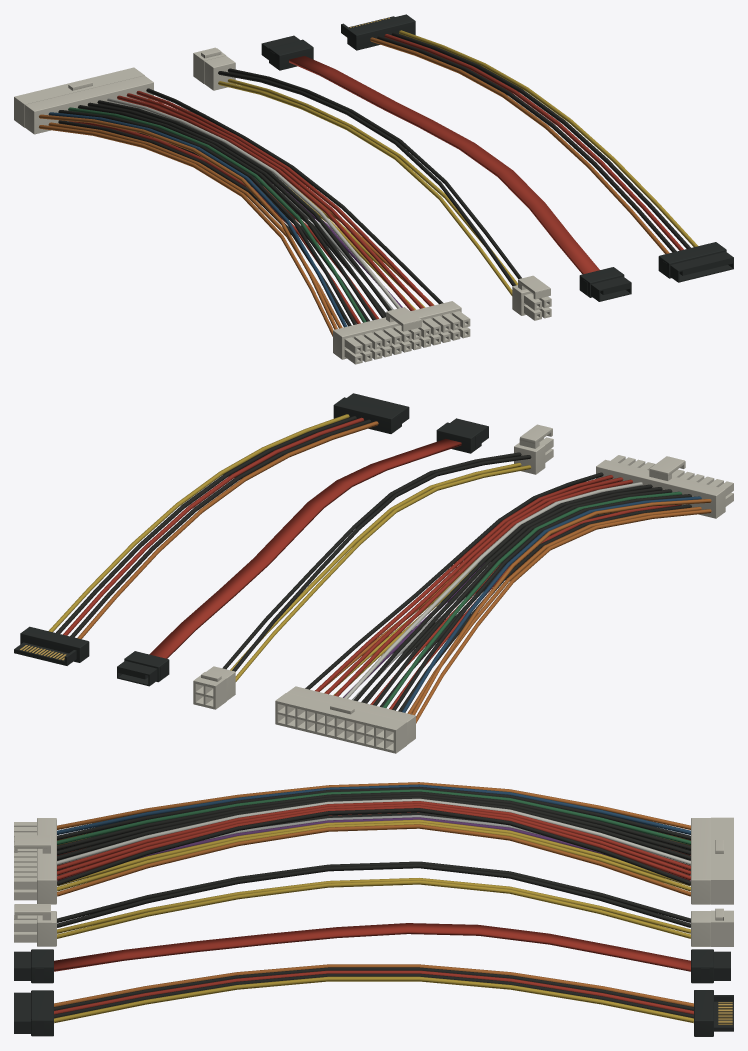
File: PC_InternalCables_LOD0.fbx
The picture shows the model from 3 angles, top to bottom: view 1: azimuth 30°, elevation 25°; view 2: azimuth 150°, elevation 25°; view 3: azimuth 270°, elevation 25°; orthographic projection. The views are drawn at different scales.
Visible parts, largest first — view 1: ATX24_LOD0, SATA_Power_LOD0, CPU4_LOD0, SATA_Data_LOD0; view 2: ATX24_LOD0, SATA_Power_LOD0, CPU4_LOD0, SATA_Data_LOD0; view 3: ATX24_LOD0, SATA_Power_LOD0, CPU4_LOD0, SATA_Data_LOD0.
Part boxes in pixels (x1,y1,x2,y2): ATX24_LOD0: (14,67,470,364); SATA_Power_LOD0: (341,14,733,282); CPU4_LOD0: (193,47,551,320); SATA_Data_LOD0: (261,35,631,301); ATX24_LOD0: (275,455,733,753); SATA_Power_LOD0: (14,393,409,665); CPU4_LOD0: (193,424,553,709); SATA_Data_LOD0: (117,418,488,686); ATX24_LOD0: (14,782,733,904); SATA_Power_LOD0: (14,964,733,1036); CPU4_LOD0: (14,861,733,946); SATA_Data_LOD0: (14,923,730,983).
Size of the model in its own units: 0.1647 by 0.0296 by 0.252.
